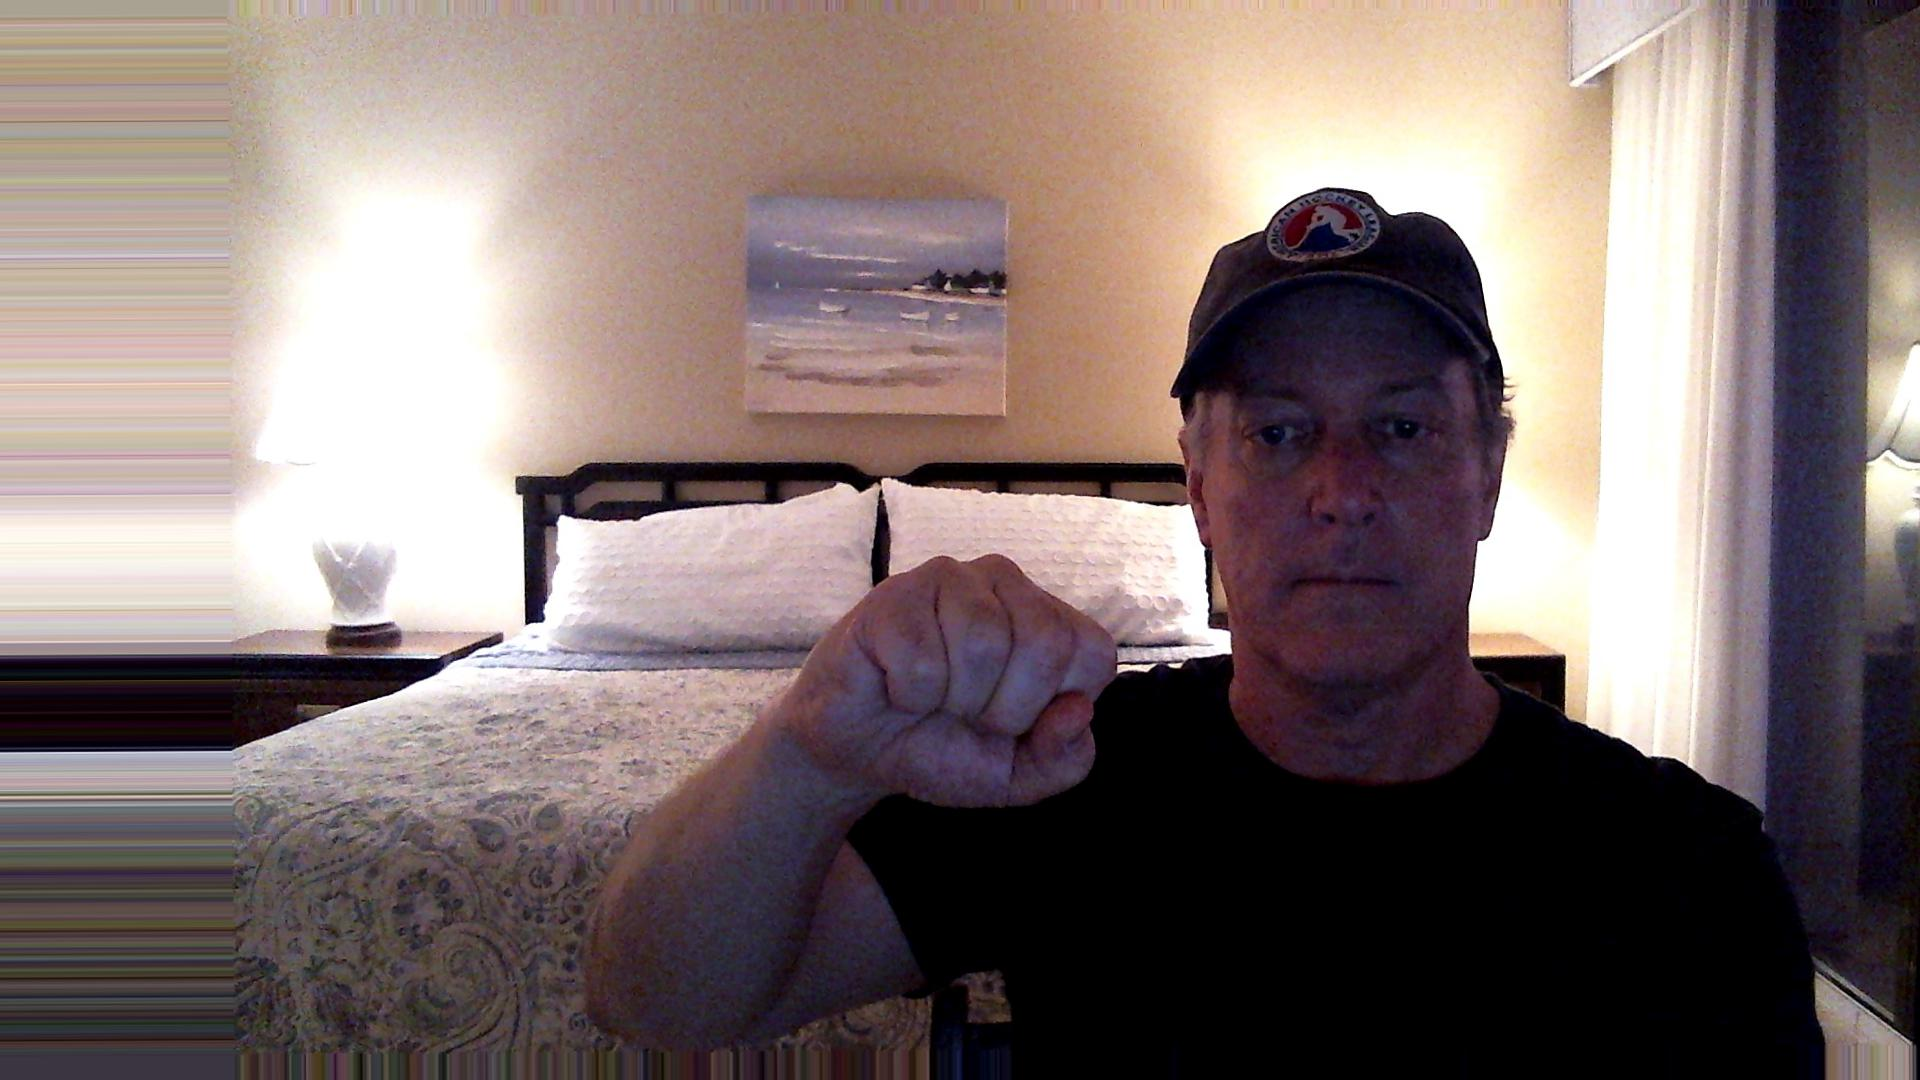Yes: (761, 541, 1143, 829)
